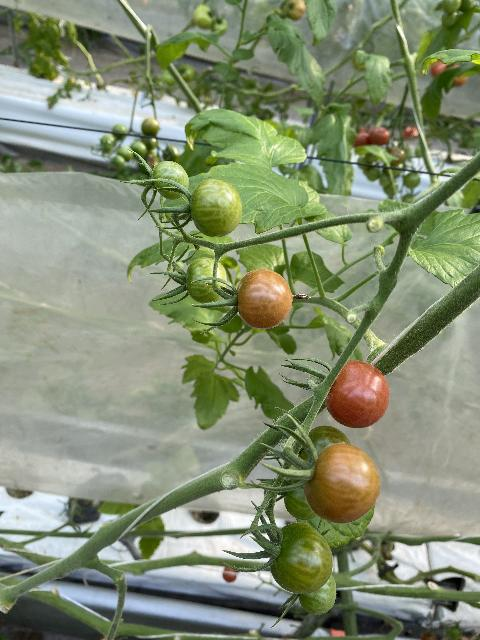l_green: (268, 522, 333, 595), (188, 178, 243, 237), (297, 425, 352, 470), (184, 258, 228, 305), (284, 472, 319, 520), (299, 572, 338, 614), (152, 161, 189, 200)
l_half_ripened: (302, 443, 382, 523), (326, 360, 391, 430), (234, 269, 293, 329)
